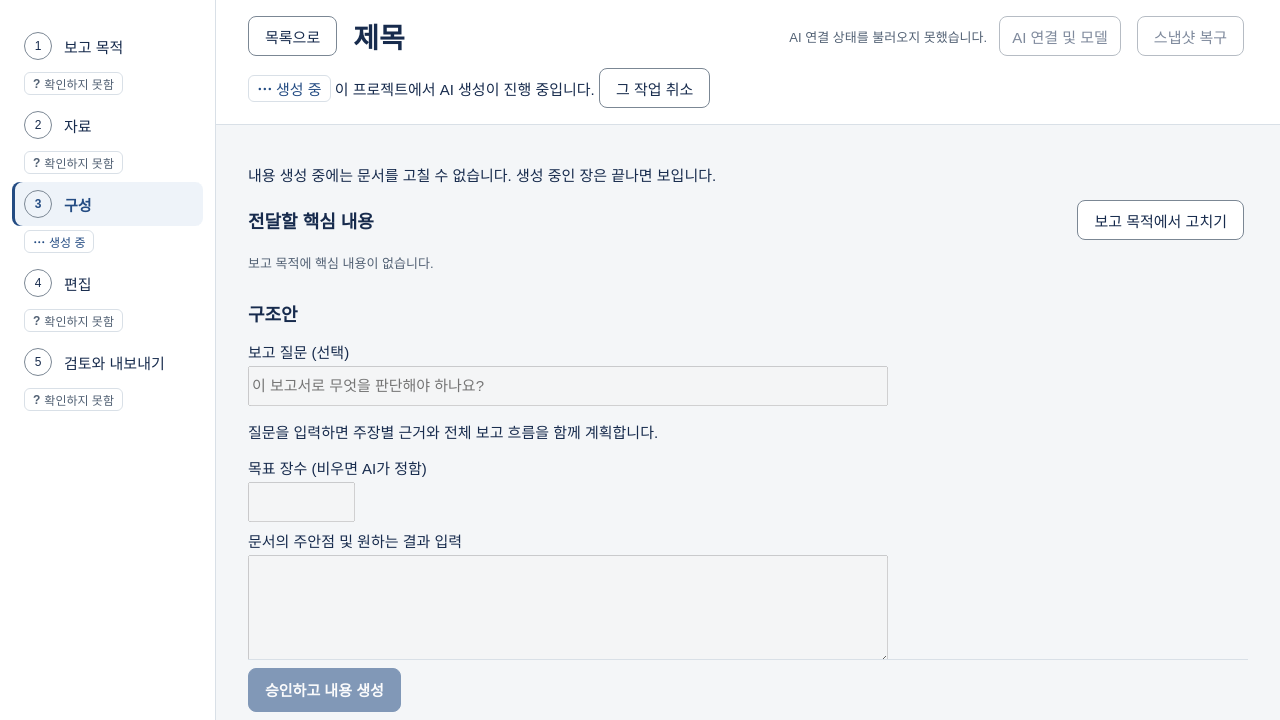
Test case: 장 생성 묶음 중 (계획 4.4 표 둘째 행, 사용자 결정 Q1의 A) › 단계 이동과 목록으로는 허용하고 내보내기, 스냅샷 복구, AI 설정은 잠근다
Expected: the text "⋯︎ 생성 중 이 프로젝트에서 AI 생성이 진행 중입니다. 그 작업 취소" is shown, [248,68,710,108]
Expected: the button "1 보고 목적" is enabled, [12,24,203,68]
Click the button "5 검토와 내보내기": (108, 362) [12,340,203,384]
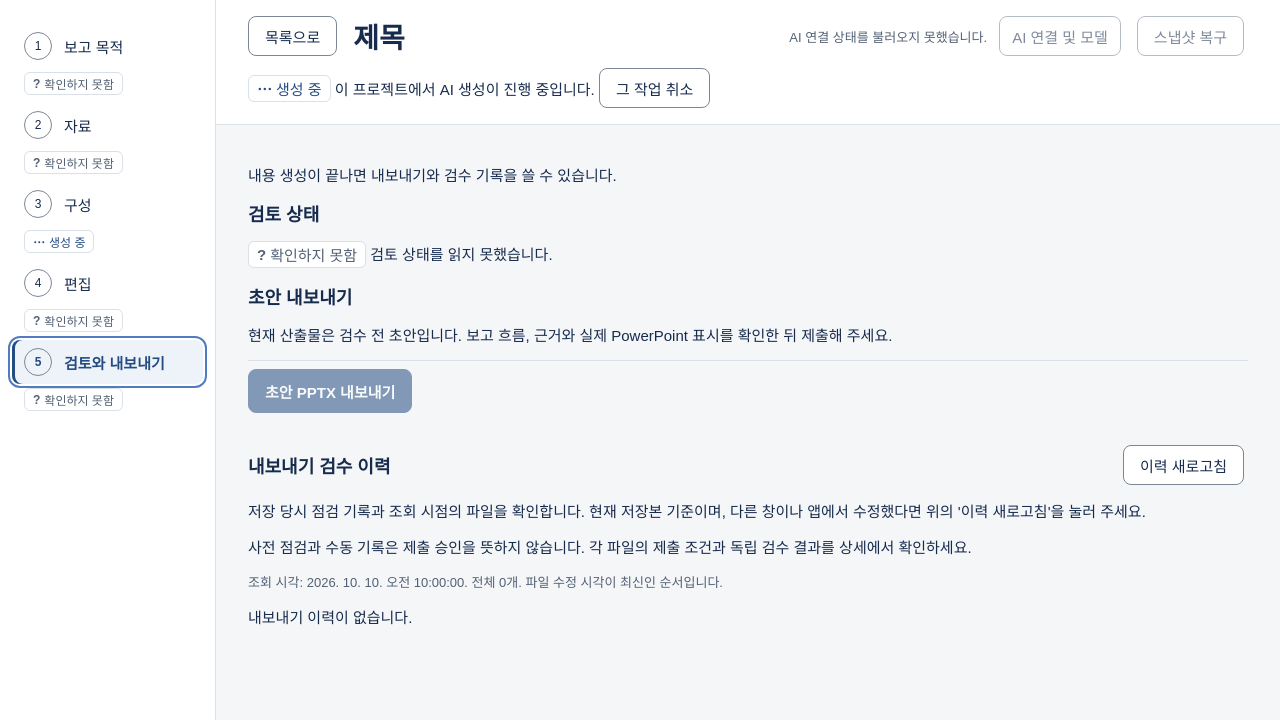
Expected: the text "내용 생성이 끝나면 내보내기와 검수 기록을 쓸 수 있습니다." is shown, [248,167,617,184]
